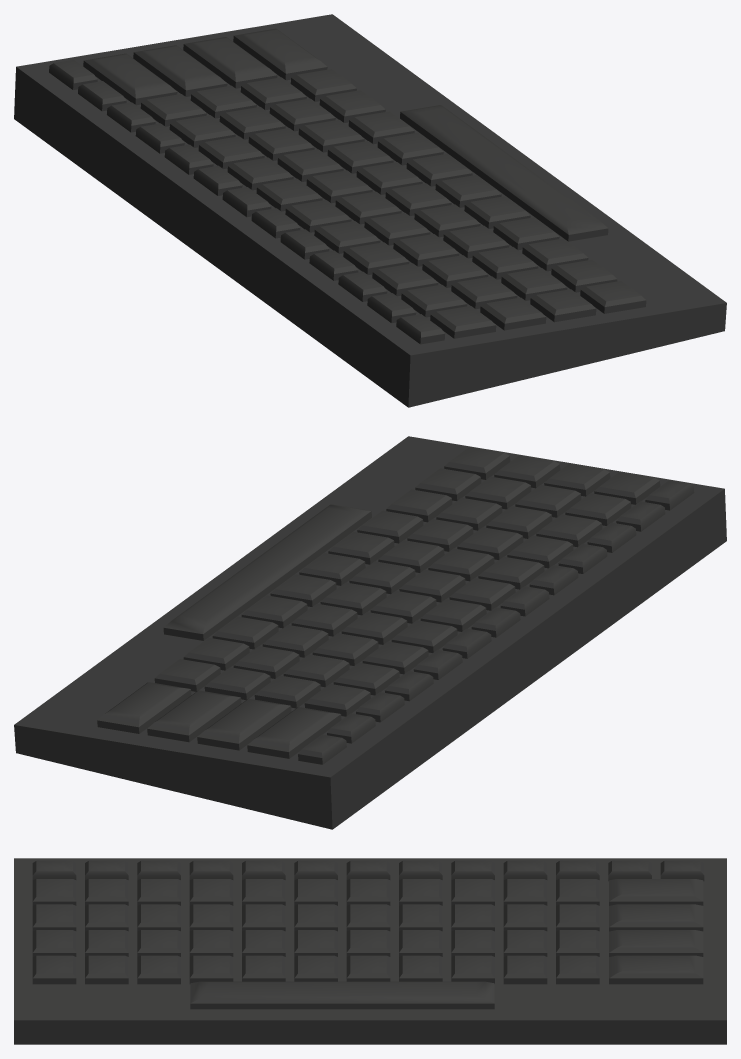
File: klawiatura.fbx
3 views of the same model, one above another, from view 1: azimuth 30°, elevation 25°; view 2: azimuth 150°, elevation 25°; view 3: azimuth 270°, elevation 25° (orthographic). The views are drawn at different scales.
Parts seen in each view (by area): view 1: komputer.001; view 2: komputer.001; view 3: komputer.001.
Boxes of the visible parts, x1=… form: komputer.001: x1=14, y1=14, x2=726, y2=407; komputer.001: x1=14, y1=436, x2=726, y2=829; komputer.001: x1=14, y1=858, x2=726, y2=1044.
Bounding box in the file's own units: 186 × 86.86 × 16.2.
